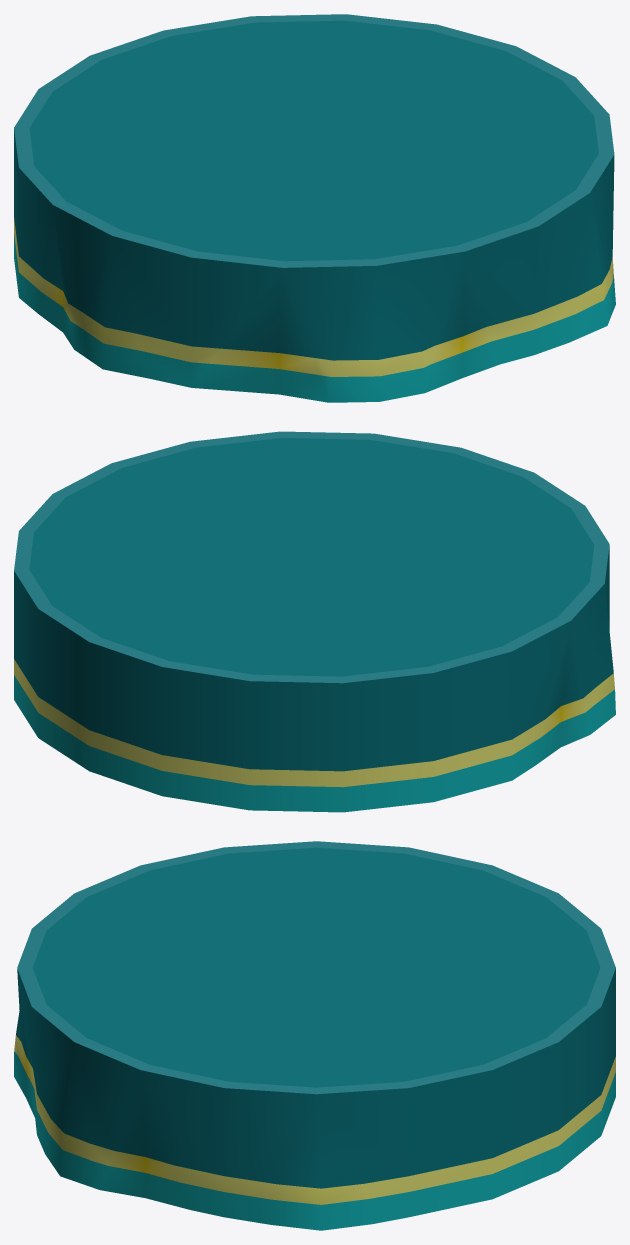
Rendered from AnniversaryTableRound.glb.
3 views of the same model, one above another, from view 1: azimuth 30°, elevation 25°; view 2: azimuth 150°, elevation 25°; view 3: azimuth 270°, elevation 25° (orthographic).
Visible parts, largest first — view 1: AnniversaryTableRound; view 2: AnniversaryTableRound; view 3: AnniversaryTableRound.
Part boxes in pixels (x1=…): AnniversaryTableRound: x1=14, y1=14, x2=615, y2=402; AnniversaryTableRound: x1=14, y1=431, x2=615, y2=812; AnniversaryTableRound: x1=14, y1=841, x2=615, y2=1230.
Size of the model in its own units: 2.17 by 0.5022 by 2.12.
